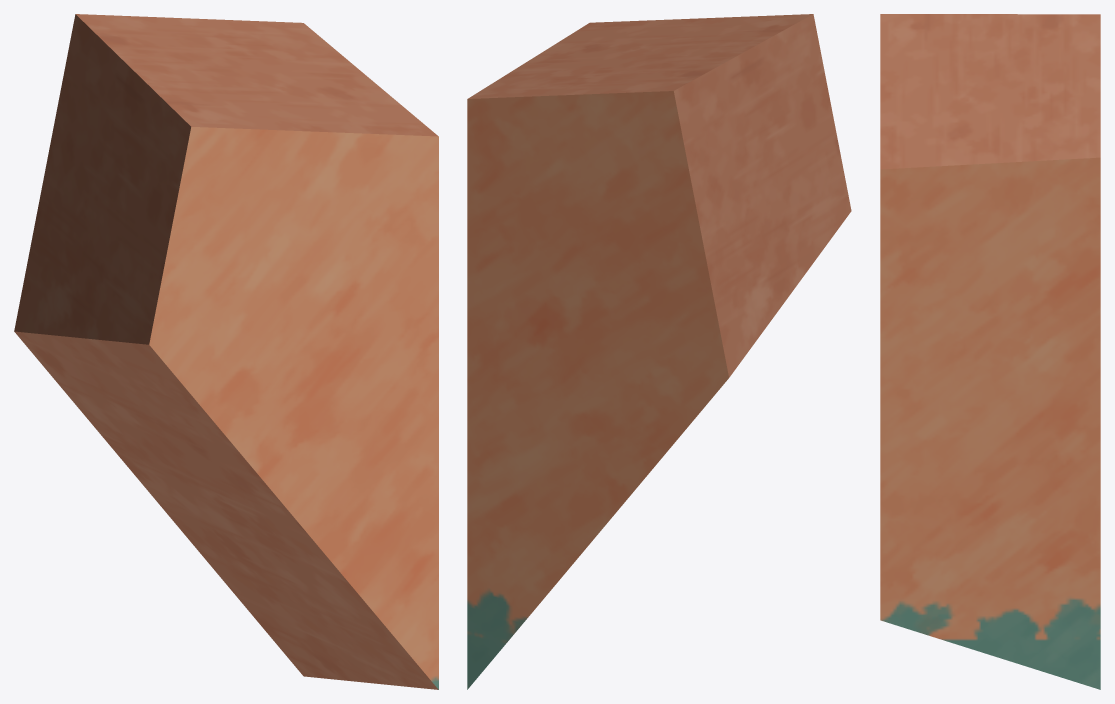
The model's file is townwall_s12.fbx.
3 views of the same model, side by side, from view 1: azimuth 30°, elevation 25°; view 2: azimuth 150°, elevation 25°; view 3: azimuth 270°, elevation 25° (orthographic). The views are drawn at different scales.
Visible parts, largest first — view 1: townwall_s12; view 2: townwall_s12; view 3: townwall_s12.
Boxes of the visible parts, x1,y1,x2,y2 form: townwall_s12: (14,14,438,689); townwall_s12: (467,14,851,689); townwall_s12: (880,14,1100,689).
Bounding box in the file's own units: 3.71 × 8.79 × 3.
